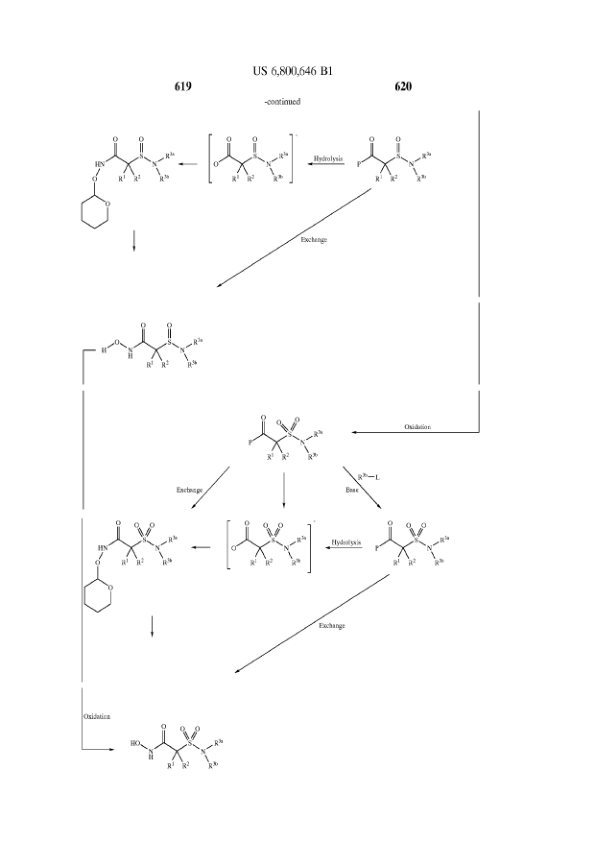compound-structure: (78, 129, 177, 231), (78, 514, 177, 613), (215, 511, 317, 576), (96, 319, 211, 373), (204, 123, 295, 190), (129, 718, 230, 778), (354, 131, 436, 185), (242, 411, 327, 462), (371, 518, 459, 567)
reaction: (56, 94, 514, 781)
reaction-arrow: (215, 190, 394, 296), (441, 100, 495, 450), (234, 573, 404, 678), (72, 345, 88, 755), (345, 415, 445, 452), (170, 459, 234, 510), (336, 463, 392, 512), (75, 709, 113, 756), (324, 530, 363, 558), (307, 153, 349, 171), (273, 475, 294, 508), (124, 234, 142, 253), (179, 156, 201, 171), (147, 615, 160, 639), (192, 540, 208, 555)
